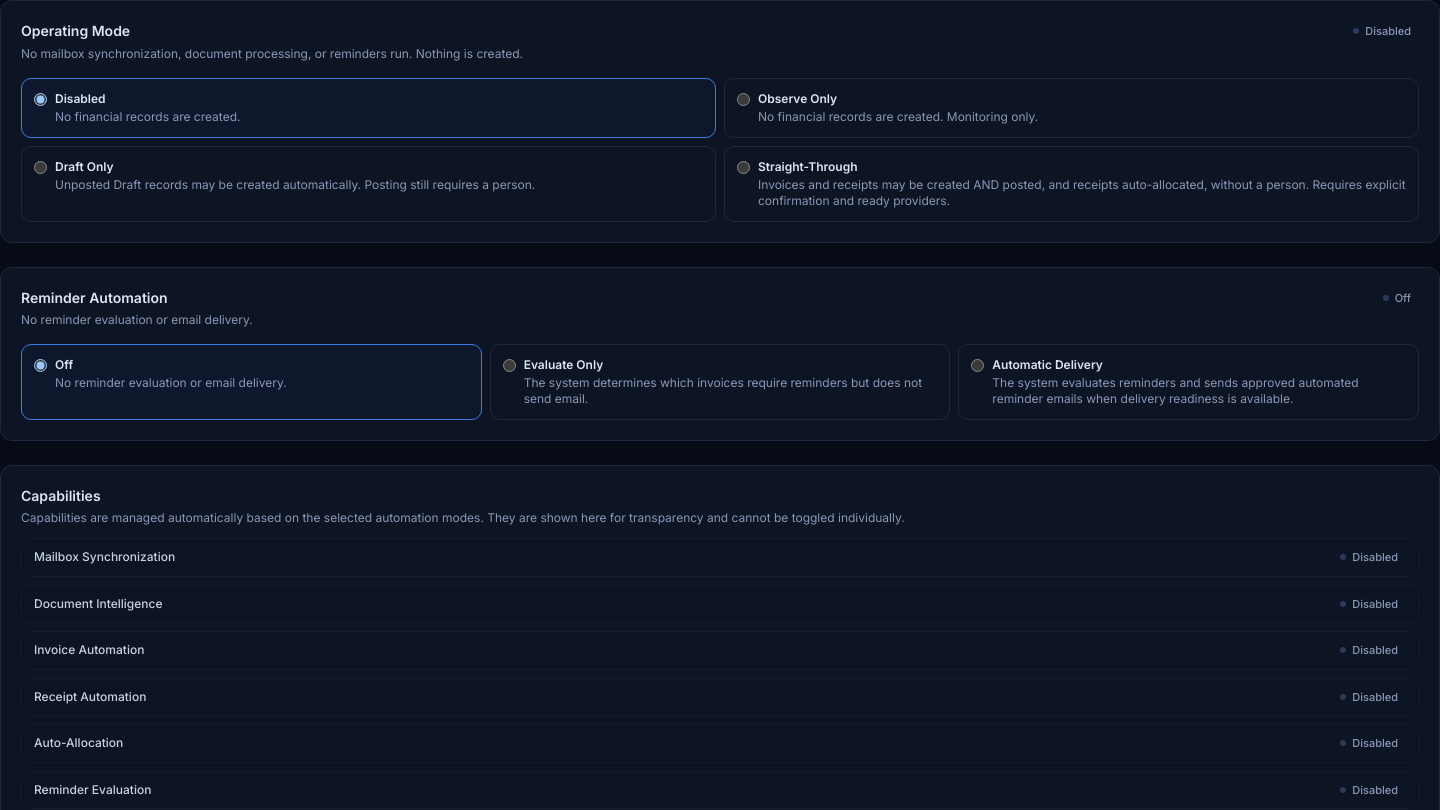
Test case: Automation Settings — reminder automation & capabilities › shows a safe unavailable state when Automatic Delivery readiness is rejected
The width and height of the screenshot is (1440, 810).
Click the radio button named "sends approved automated reminder emails": (978, 366) [971,359,984,372]
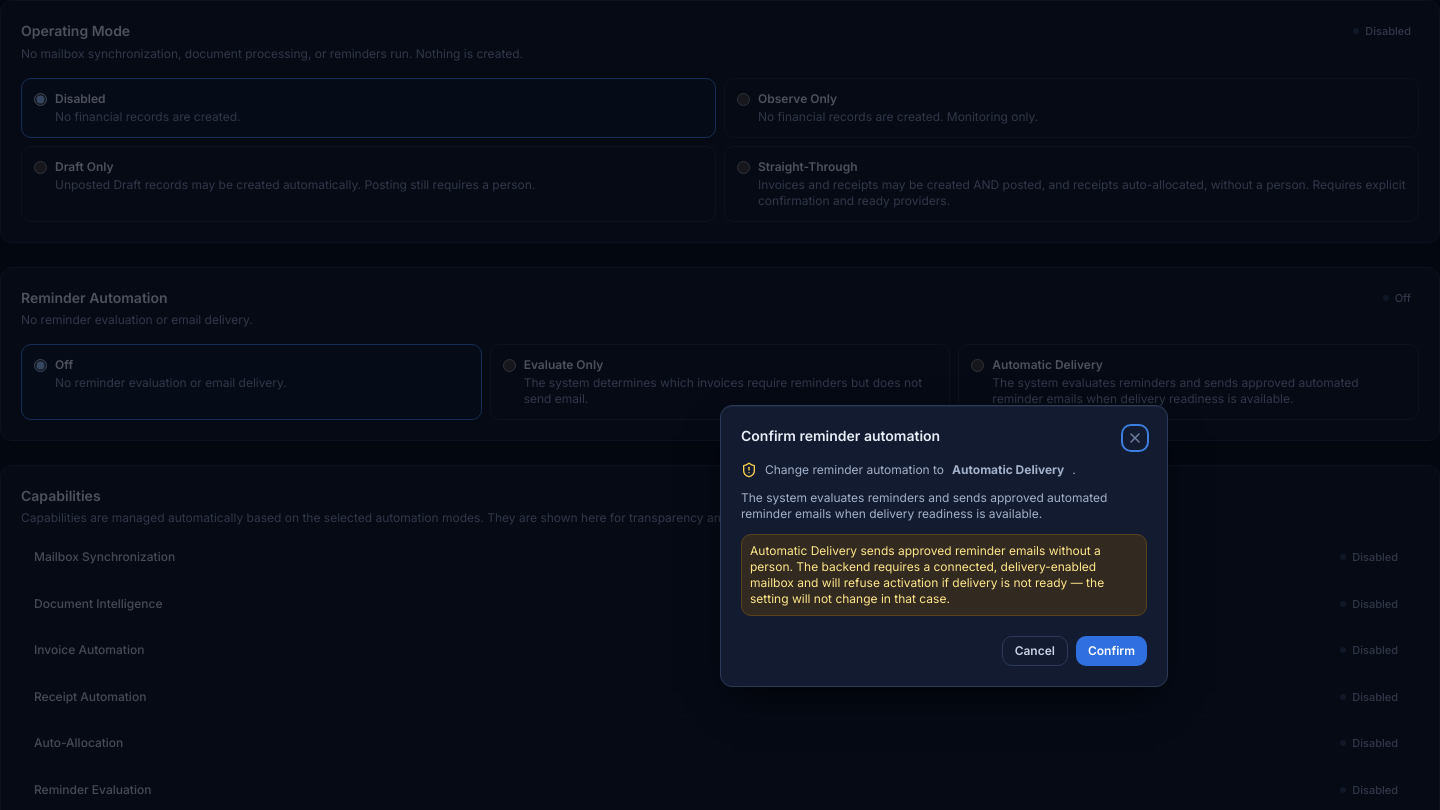
Click the button "Confirm": (1111, 651) [1076,636,1147,666]
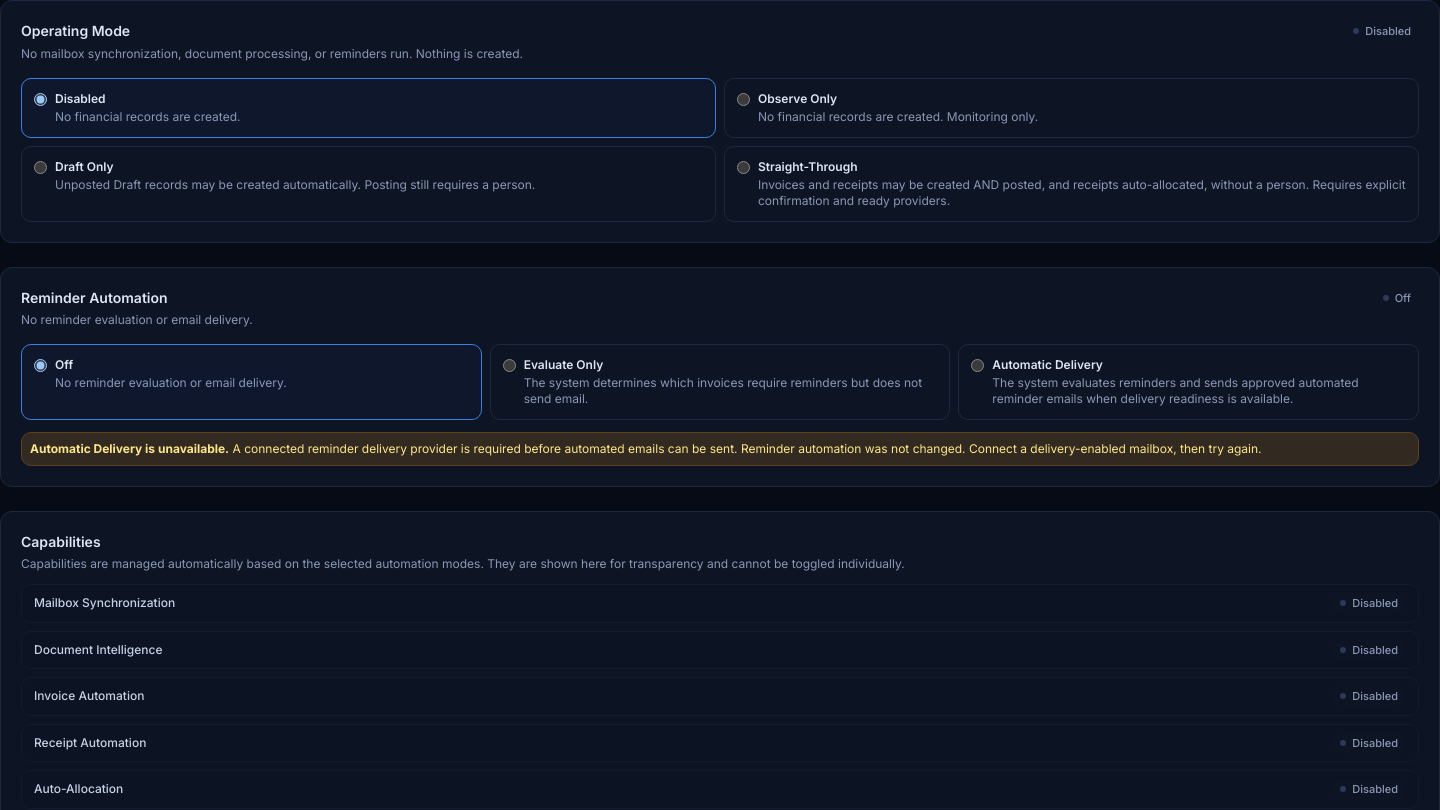
Expected: the text "Automatic Delivery is unavailable." is shown, [30,441,229,456]
